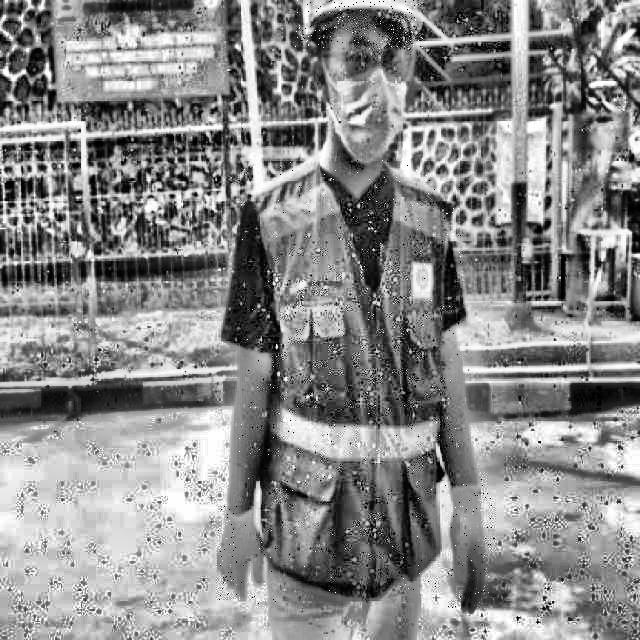safety_helmet: (295, 0, 423, 49)
safety_jacket: (238, 158, 462, 594)
